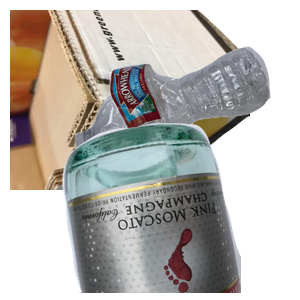cardboard: (10, 10, 250, 190)
glass: (60, 120, 300, 300)
plastic: (72, 44, 300, 200)
trash: (105, 152, 280, 300)
